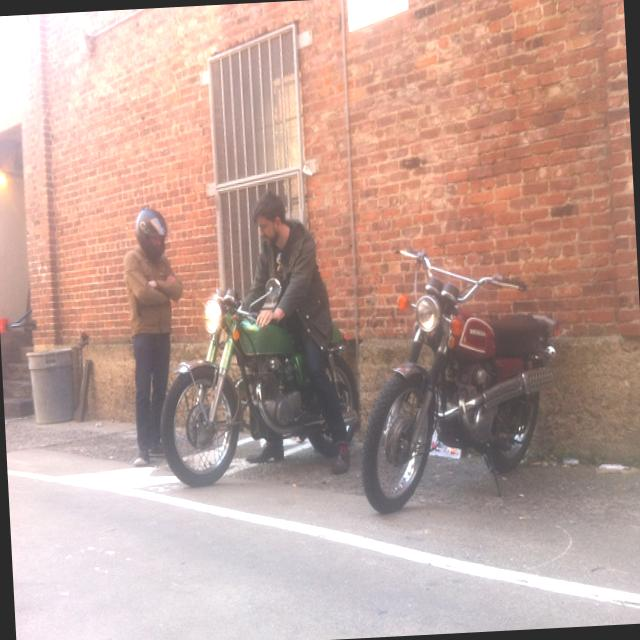Vehicle: (343, 228, 568, 517), (160, 286, 359, 491)
